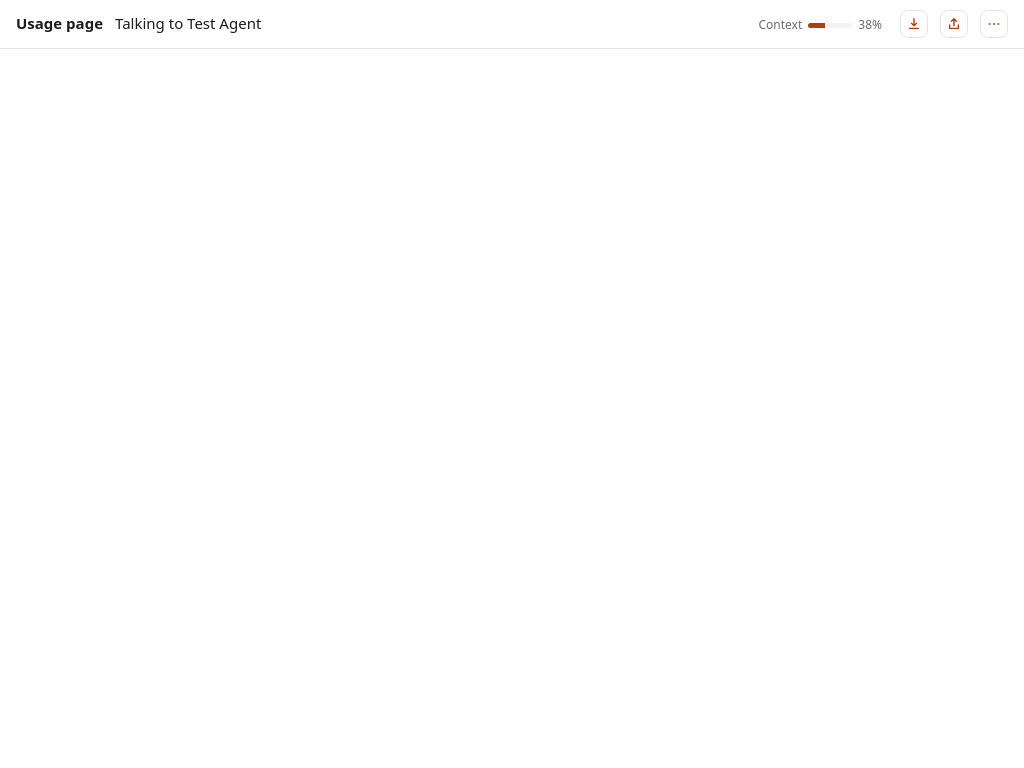
Test: ChatHeader › the context panel › closes with a second click, Esc, or a press outside
Click the button with class "context" at (820, 25), box [752,14,888,36]
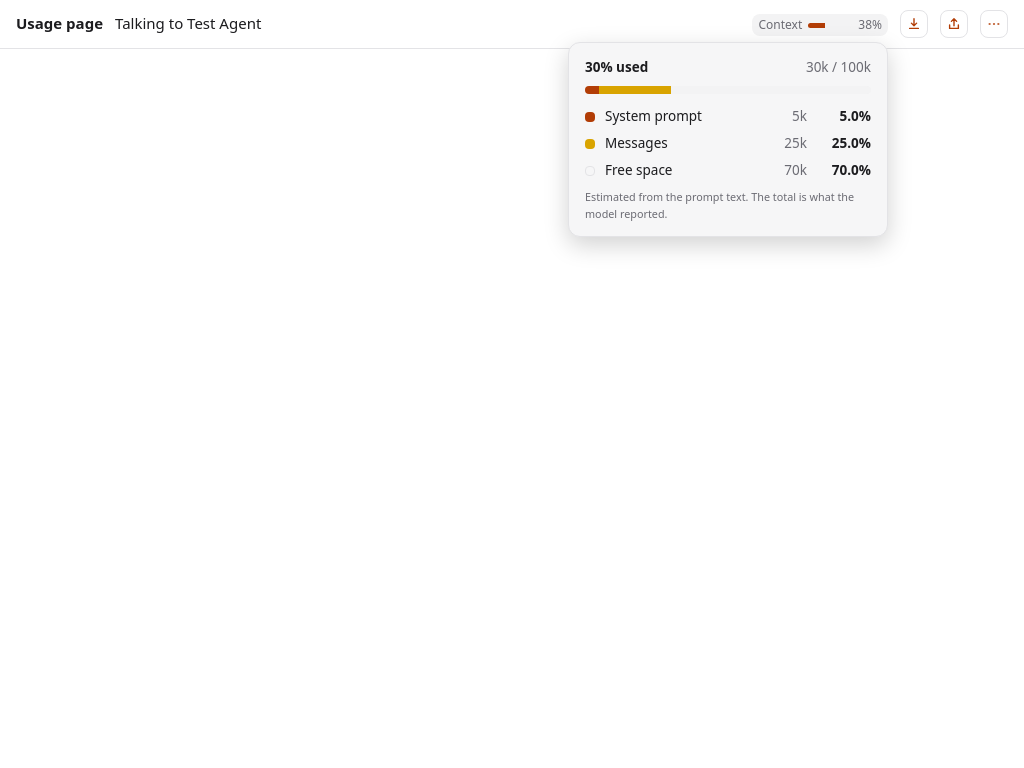
Click the button with class "context" at (820, 25), box [752,14,888,36]
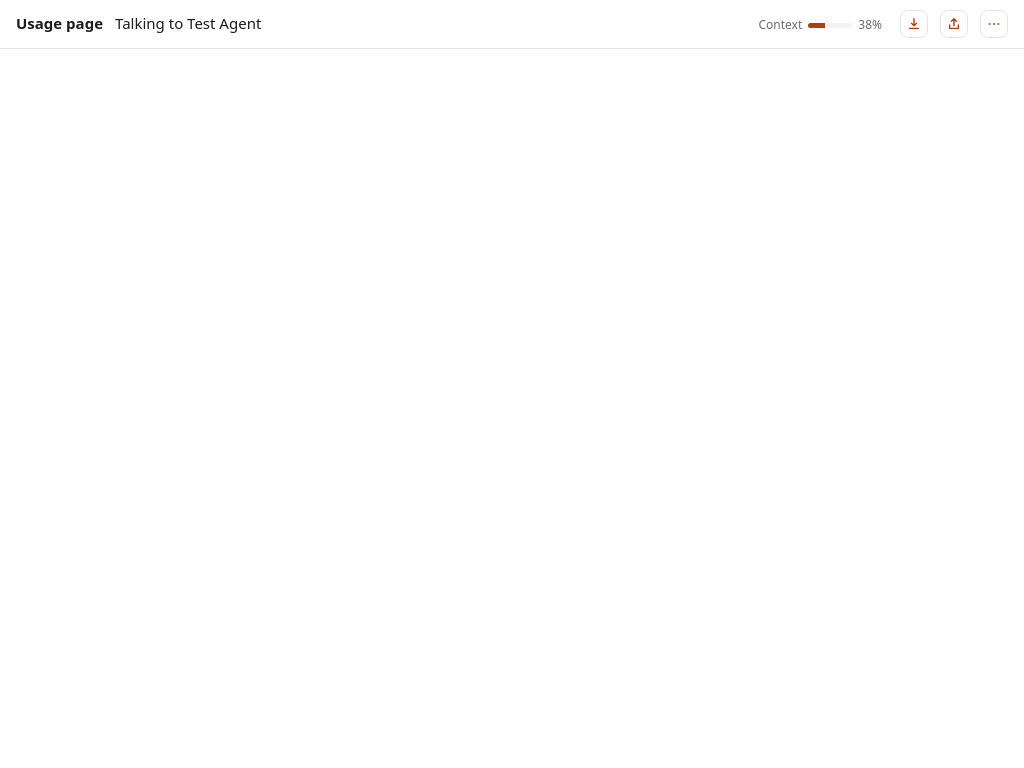
Now the dialog with test id "context-panel" is gone
Click the button with class "context" at (820, 25), box [752,14,888,36]
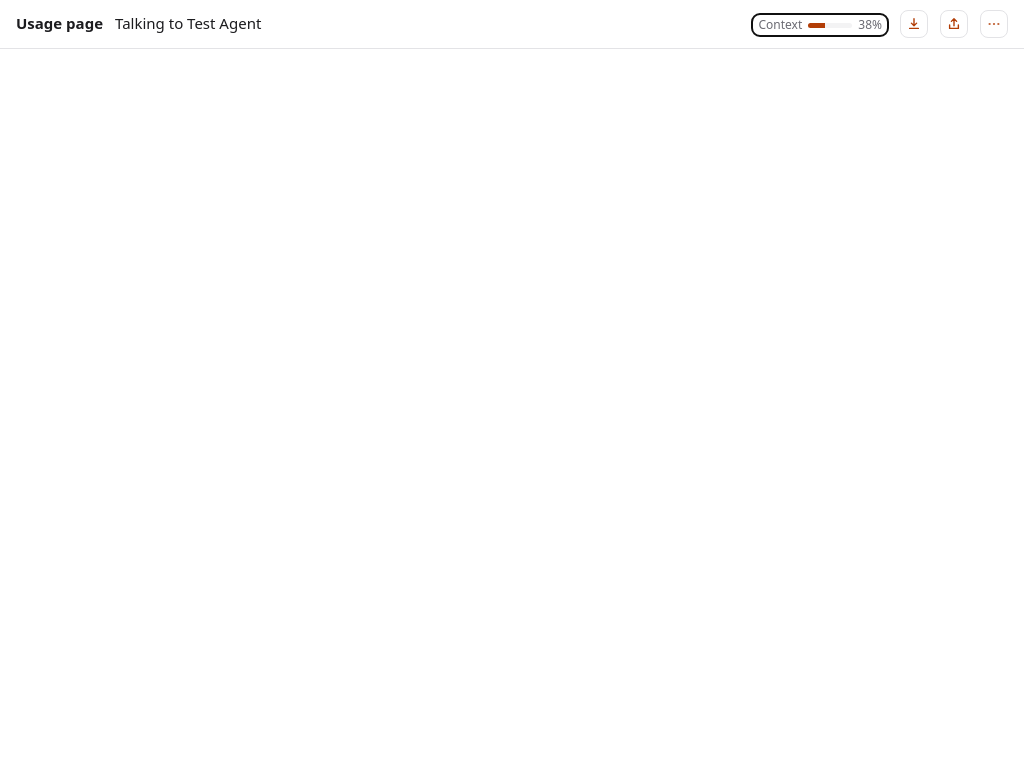
Click the button with class "context" at (820, 25), box [752,14,888,36]
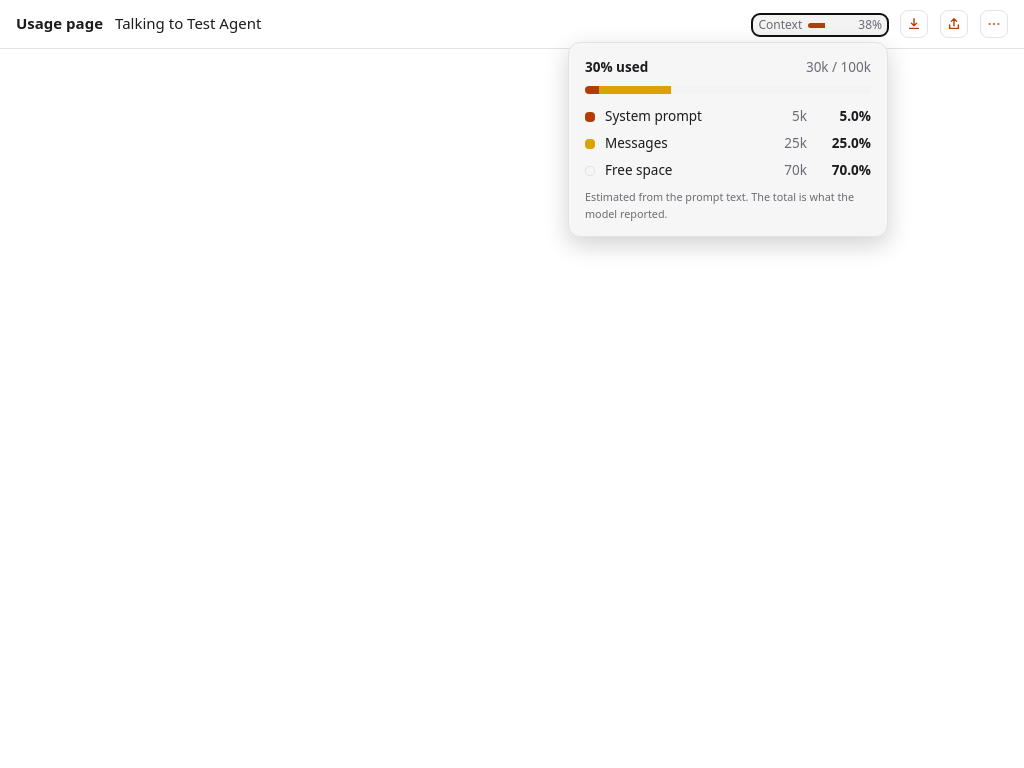
Press the mouse on the element that starts with "Usage page" at (512, 384), box [0,0,1023,767]
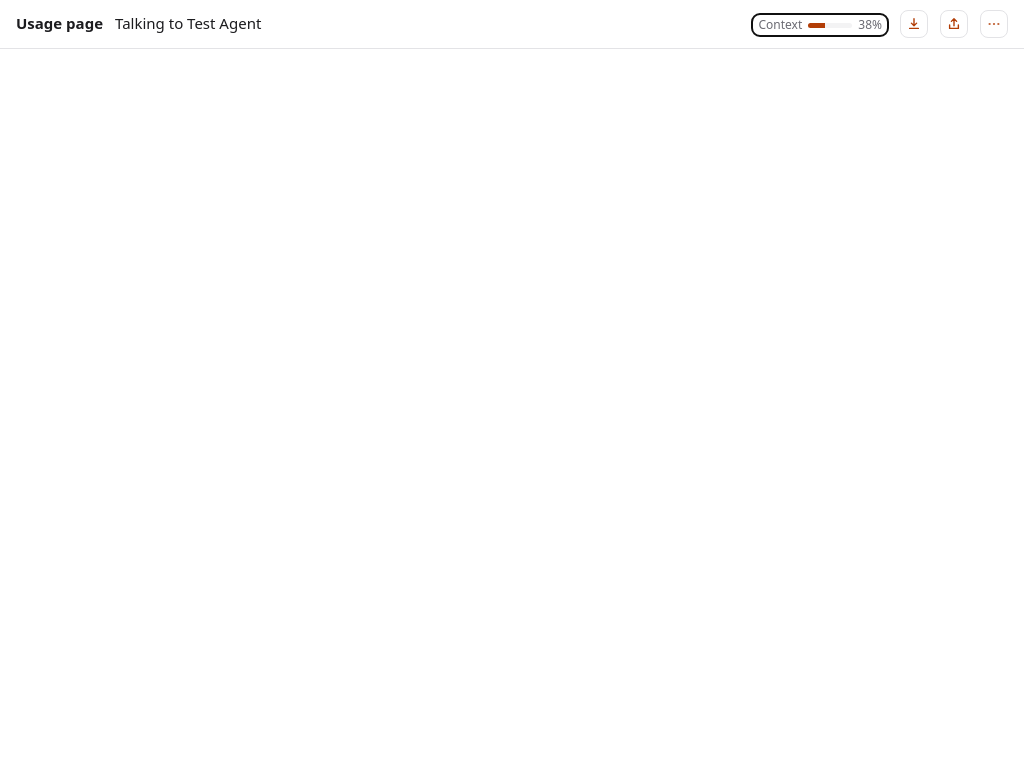
Now the dialog with test id "context-panel" is gone
